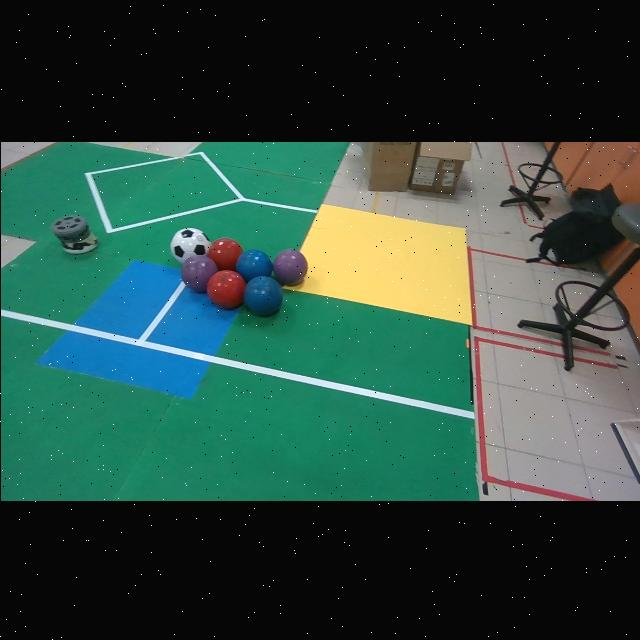B: (243, 275, 282, 314), (235, 247, 272, 281)
P: (180, 255, 217, 291), (272, 247, 307, 283)
R: (206, 268, 245, 308), (208, 235, 242, 269)
